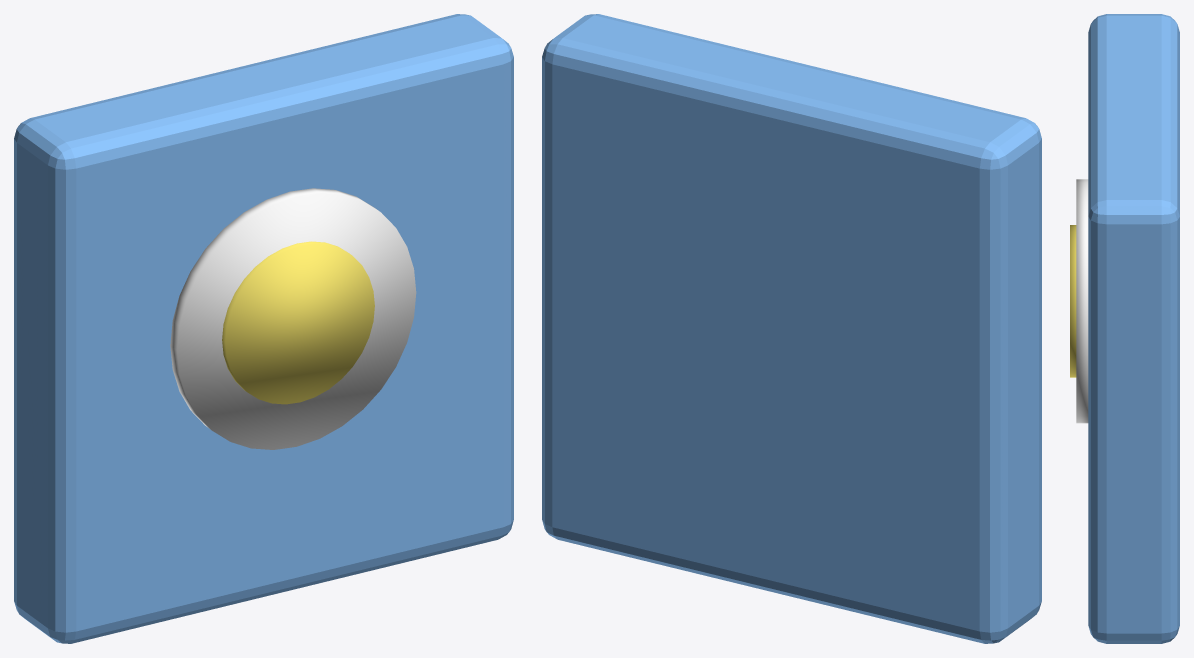
File: door.glb
The picture shows the model from 3 angles, left to right: view 1: azimuth 30°, elevation 25°; view 2: azimuth 150°, elevation 25°; view 3: azimuth 270°, elevation 25°; orthographic projection. The views are drawn at different scales.
Visible parts, largest first — view 1: DoorSlab, DoorRing, DoorDot; view 2: DoorSlab; view 3: DoorSlab, DoorRing, DoorDot.
Part boxes in pixels (x1,y1,x2,y2): DoorSlab: [14, 14, 513, 643]; DoorRing: [170, 188, 416, 449]; DoorDot: [222, 241, 374, 404]; DoorSlab: [542, 14, 1041, 643]; DoorSlab: [1088, 14, 1179, 643]; DoorRing: [1076, 179, 1088, 423]; DoorDot: [1070, 225, 1076, 377].
Bounding box in the file's own units: 3.1 × 3.2 × 0.72.
